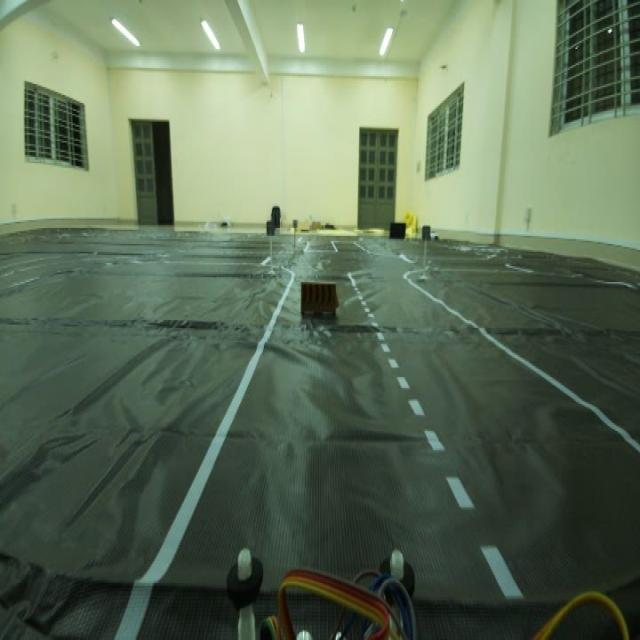roadblock: (293, 272, 348, 332)
